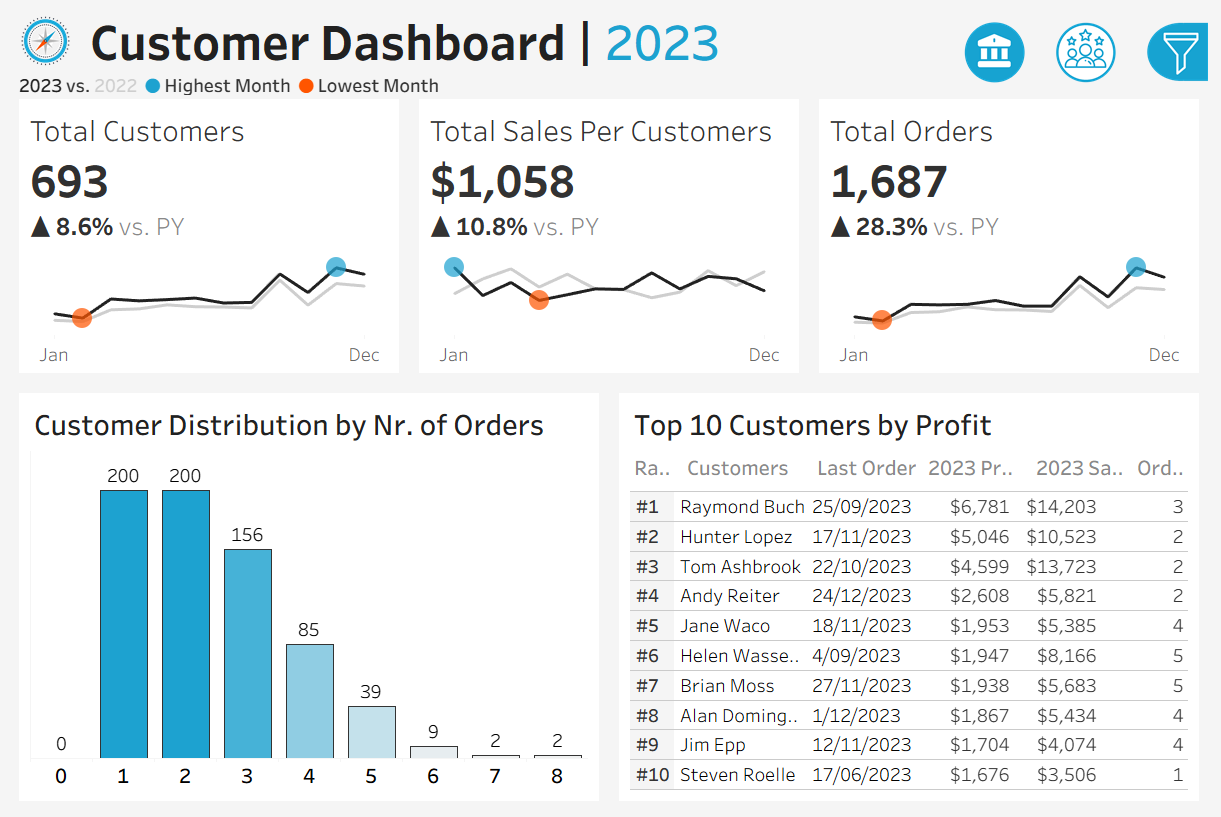

What the dashboard file says about the page in this screenshot:
{"tool":"tableau","page":{"name":"Customer Dashboard","canvas":[1200,800],"ordinal":0},"visuals":[{"type":"image","param":"C:/Users/jenny/Desktop/自己練習/Tablueau/sales-dashboard-project/images/Icon - Logo.","box":[0,0,88,80]},{"type":"text","box":[88,0,1112,80]},{"type":"dashboard-object","box":[848,19,128,66]},{"type":"dashboard-object","box":[976,19,127,66]},{"type":"worksheet","title":"Legend KPIs","mark":"Automatic","box":[0,80,1200,42]},{"type":"worksheet","title":"Customer KPI","mark":"Automatic","rows":["Calculation_312718705156382754"],"cols":["Order Date"],"box":[0,122,400,260]},{"type":"worksheet","title":"KPI Sales for Per Customer","mark":"Automatic","rows":["Calculation_312718705168121902"],"cols":["Order Date"],"box":[400,122,400,260]},{"type":"worksheet","title":"KPI Order","mark":"Automatic","rows":["Min/Max Customer (copy)_312718705172213811"],"cols":["Order Date"],"box":[800,122,400,260]},{"type":"text","box":[7,399,583,47]},{"type":"text","box":[617,406,569,32]},{"type":"text","box":[617,438,60,66]},{"type":"text","box":[677,438,123,66]},{"type":"text","box":[800,438,107,66]},{"type":"text","box":[907,438,108,66]},{"type":"text","box":[1015,438,89,66]},{"type":"text","box":[1104,438,82,66]},{"type":"worksheet","title":"Customer Distribution","mark":"Automatic","rows":["Calculation_312718705153548320"],"cols":["Calculation_312718705176207414"],"box":[7,446,583,337]},{"type":"worksheet","title":"Top Customers","mark":"Automatic","rows":["Calculation_312718705180758073","Customer Name","Order Date"],"box":[617,504,569,272]}]}

Visuals, with their boxes in screenshot pixels (x1, y1, x2, y2), scaled from the page's 1200x800 canvas onto the 1221x817 screenshot:
image: {"x1": 0, "y1": 0, "x2": 90, "y2": 82}
text: {"x1": 90, "y1": 0, "x2": 1220, "y2": 82}
dashboard-object: {"x1": 863, "y1": 19, "x2": 993, "y2": 87}
dashboard-object: {"x1": 993, "y1": 19, "x2": 1122, "y2": 87}
"Legend KPIs" worksheet: {"x1": 0, "y1": 82, "x2": 1220, "y2": 125}
"Customer KPI" worksheet: {"x1": 0, "y1": 125, "x2": 407, "y2": 390}
"KPI Sales for Per Customer" worksheet: {"x1": 407, "y1": 125, "x2": 814, "y2": 390}
"KPI Order" worksheet: {"x1": 814, "y1": 125, "x2": 1220, "y2": 390}
text: {"x1": 7, "y1": 407, "x2": 600, "y2": 455}
text: {"x1": 628, "y1": 415, "x2": 1207, "y2": 447}
text: {"x1": 628, "y1": 447, "x2": 689, "y2": 515}
text: {"x1": 689, "y1": 447, "x2": 814, "y2": 515}
text: {"x1": 814, "y1": 447, "x2": 923, "y2": 515}
text: {"x1": 923, "y1": 447, "x2": 1033, "y2": 515}
text: {"x1": 1033, "y1": 447, "x2": 1123, "y2": 515}
text: {"x1": 1123, "y1": 447, "x2": 1207, "y2": 515}
"Customer Distribution" worksheet: {"x1": 7, "y1": 455, "x2": 600, "y2": 800}
"Top Customers" worksheet: {"x1": 628, "y1": 515, "x2": 1207, "y2": 792}
